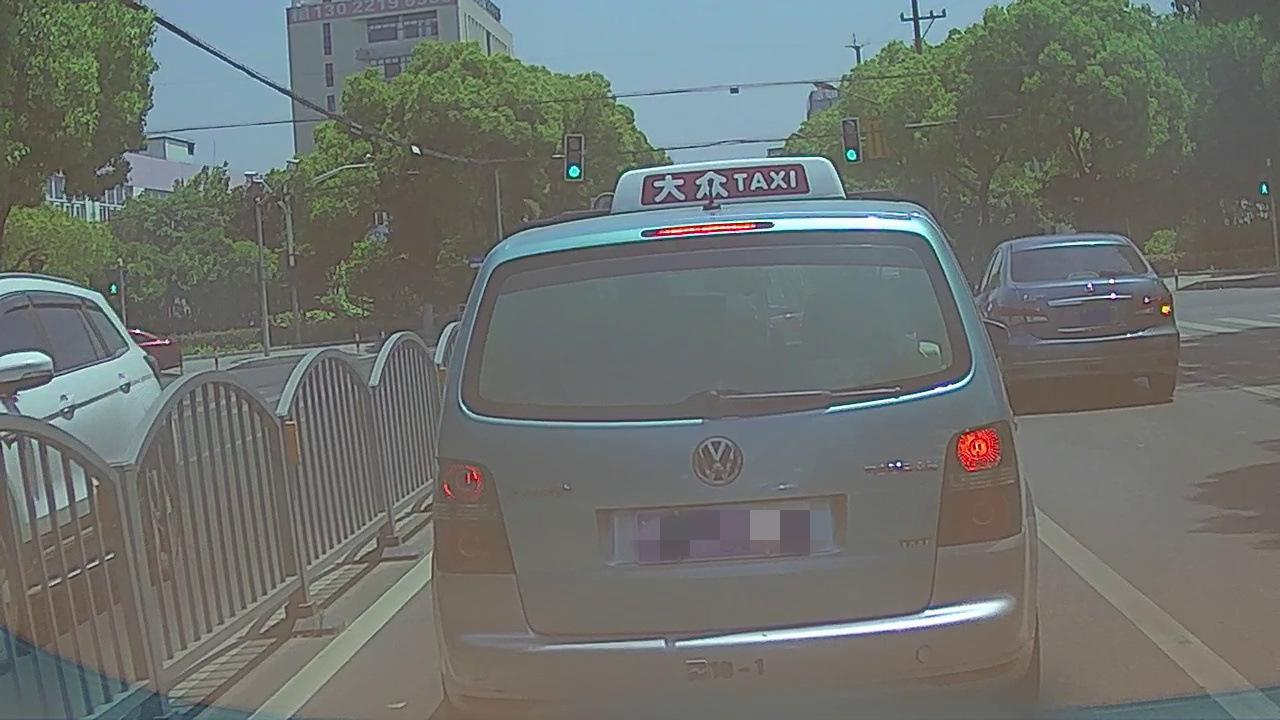traffic_light: (842, 120, 860, 163), (566, 135, 582, 179)
